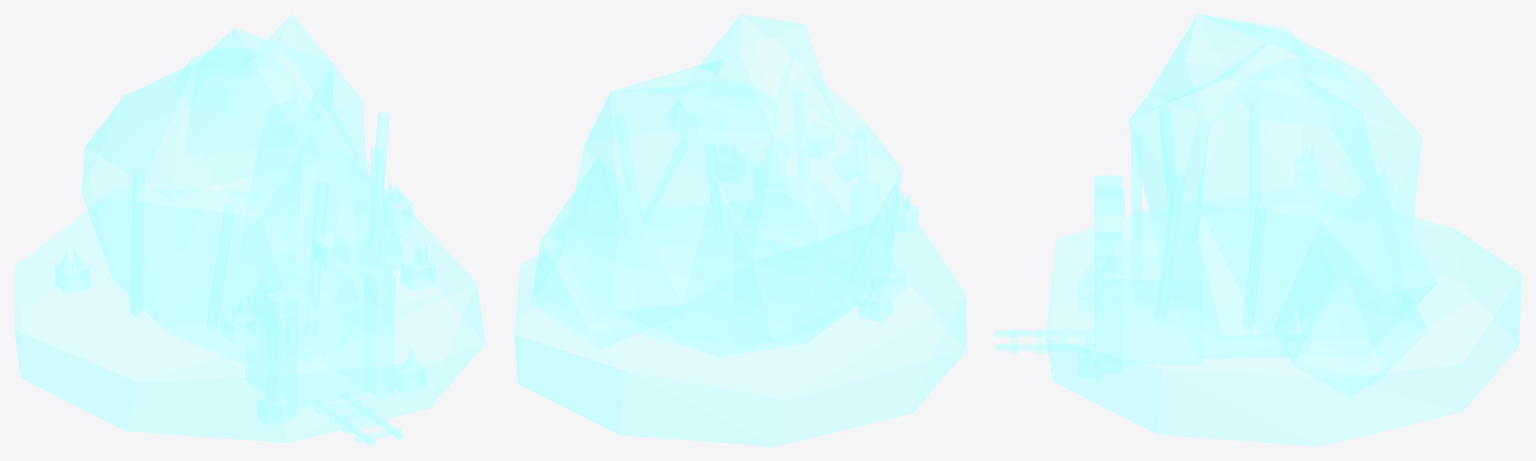
Rendered from GH_Mountain_Ruby.fbx.
3 views of the same model, side by side, from view 1: azimuth 30°, elevation 25°; view 2: azimuth 150°, elevation 25°; view 3: azimuth 270°, elevation 25° (orthographic). The views are drawn at different scales.
Visible parts, largest first — view 1: SM_Mountain_Ruby; view 2: SM_Mountain_Ruby; view 3: SM_Mountain_Ruby.
Boxes of the visible parts, box(x1,y1,x2,y2) form: SM_Mountain_Ruby: box(14, 14, 485, 446); SM_Mountain_Ruby: box(514, 14, 966, 446); SM_Mountain_Ruby: box(995, 14, 1521, 446).
Bounding box in the file's own units: 10.32 × 7.42 × 11.14.
